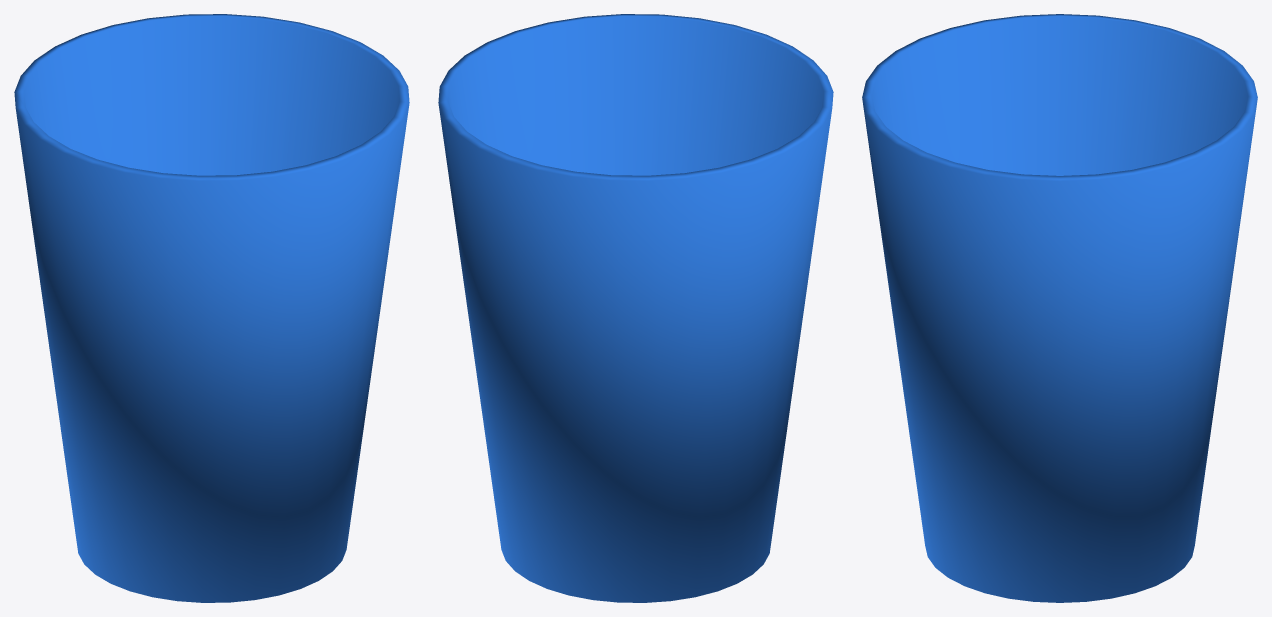
Rendered from cup.glb.
The picture shows the model from 3 angles, left to right: view 1: azimuth 30°, elevation 25°; view 2: azimuth 150°, elevation 25°; view 3: azimuth 270°, elevation 25°; orthographic projection.
Visible parts, largest first — view 1: Cup; view 2: Cup; view 3: Cup.
Boxes of the visible parts, x1,y1,x2,y2 form: Cup: [14, 14, 409, 602]; Cup: [438, 14, 833, 602]; Cup: [862, 14, 1257, 602].
Size of the model in its own units: 2 by 2.51 by 2.
